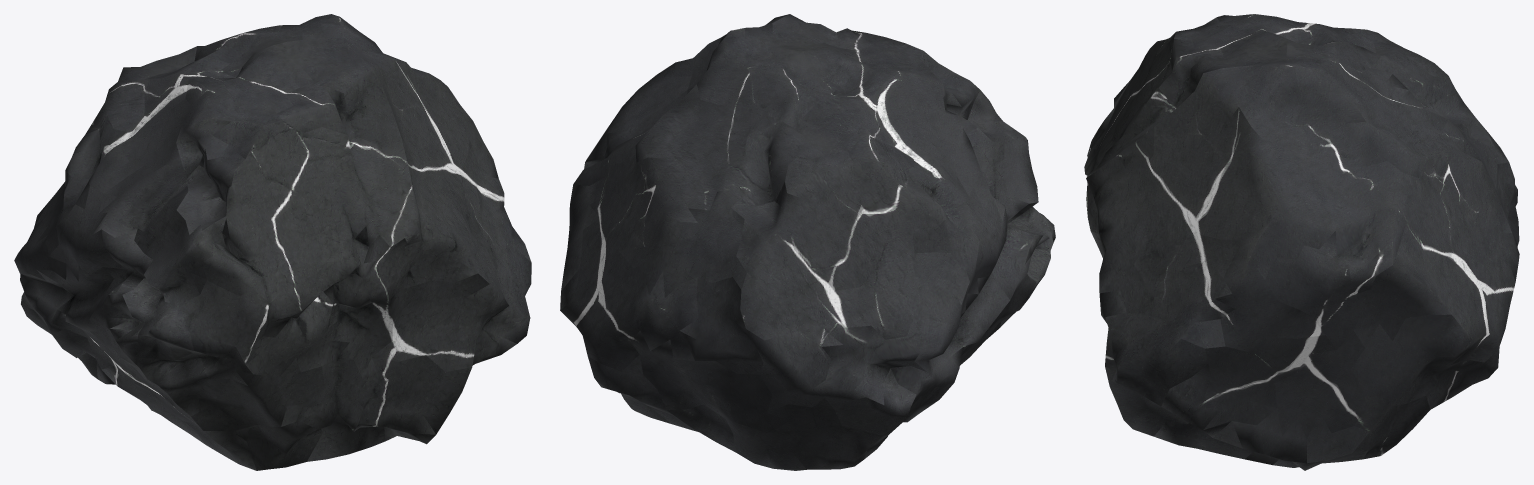
The model's file is moon-boulder.glb.
The picture shows the model from 3 angles, left to right: view 1: azimuth 30°, elevation 25°; view 2: azimuth 150°, elevation 25°; view 3: azimuth 270°, elevation 25°; orthographic projection. The views are drawn at different scales.
Bounding box in the file's own units: 1 × 0.9308 × 0.9708.
Materials: 1 (1 with a texture image).
